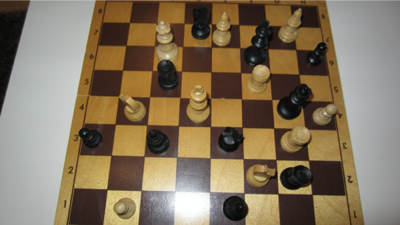black-bishop: (223, 196, 249, 222), (147, 129, 170, 155)
black-king: (244, 20, 272, 67)
black-knight: (191, 5, 212, 40), (218, 127, 244, 153)
black-pawn: (306, 42, 328, 67), (79, 127, 103, 149)
black-queen: (277, 84, 313, 120)
black-rook: (280, 165, 313, 191), (157, 60, 180, 91)
white-bishop: (278, 8, 303, 43), (212, 12, 232, 47)
white-king: (187, 85, 211, 124)
white-knight: (119, 92, 147, 122), (247, 165, 277, 188)
white-pawn: (313, 104, 339, 126), (114, 198, 137, 220)
white-queen: (155, 21, 179, 62)
white-rook: (281, 126, 312, 154), (247, 65, 271, 96)
